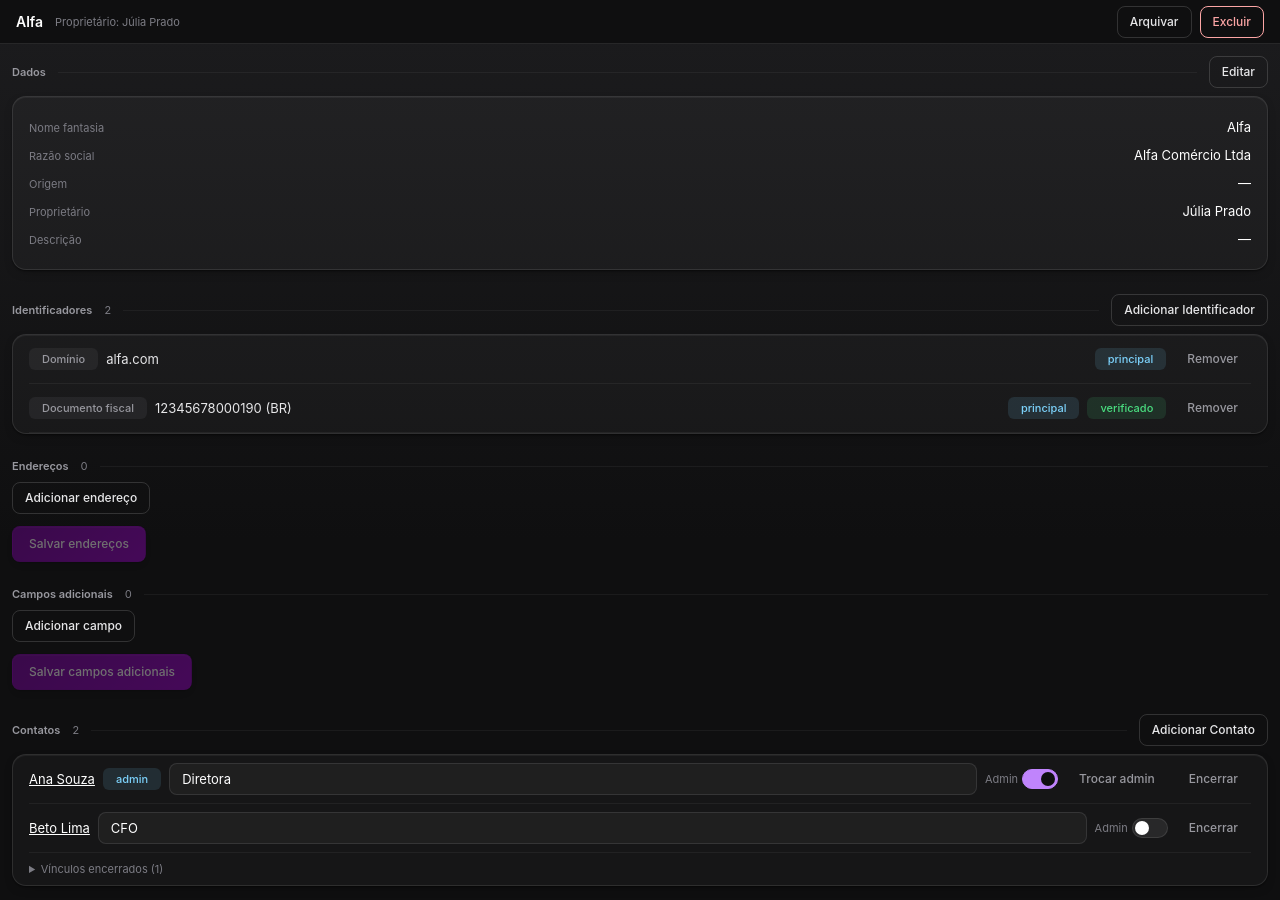
FichaDeEmpresa — vínculos e admin (D-08) › (c) Excluir avisa que os vínculos vigentes serão encerrados e os Contatos ficam; o 409 EMPRESA_BLOQUEADA lista Negócios e filiais com link
The width and height of the screenshot is (1280, 900).
Click the button "Excluir": {"x": 1232, "y": 22} [1200,6,1264,38]
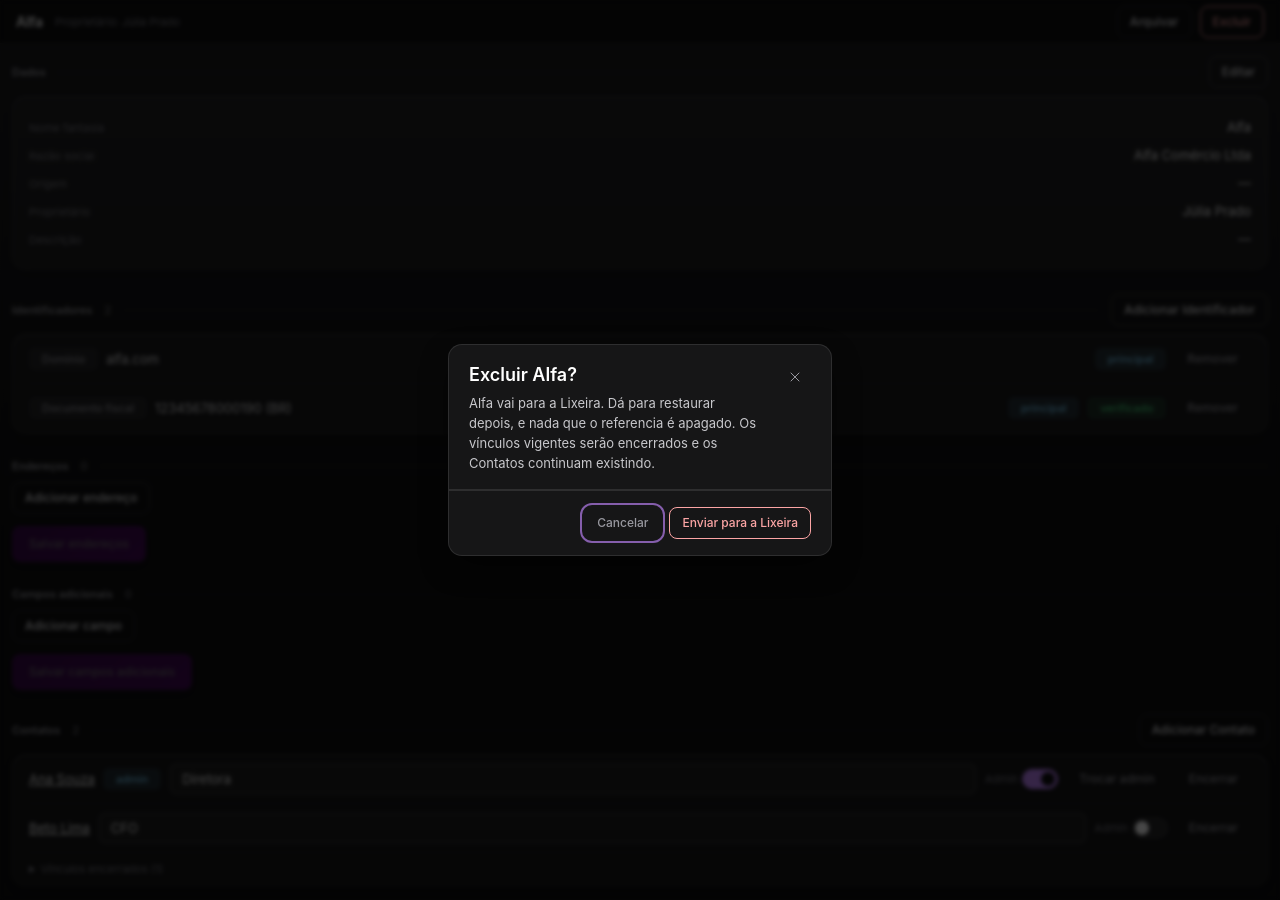
expect the text "Os vínculos vigentes serão encerrados e os Contatos continuam existindo" is shown: met, box [469,395,756,471]
Click the button "Enviar para a Lixeira": {"x": 740, "y": 523} [670,507,811,539]
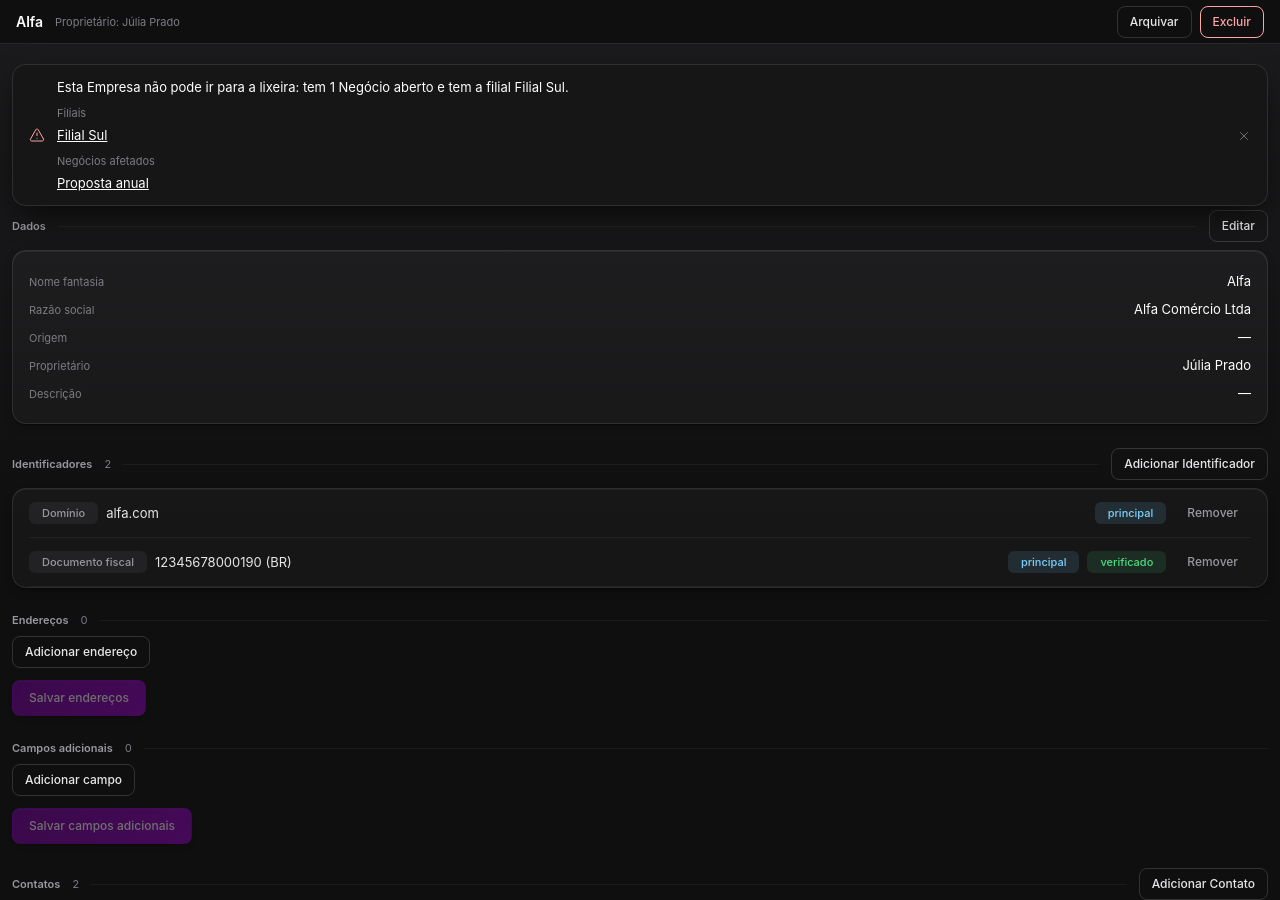
expect the button "Arquivar" is shown: met, box [1117,6,1192,38]
expect the text "não pode ir para a lixeira" is shown: met, box [57,79,569,95]
